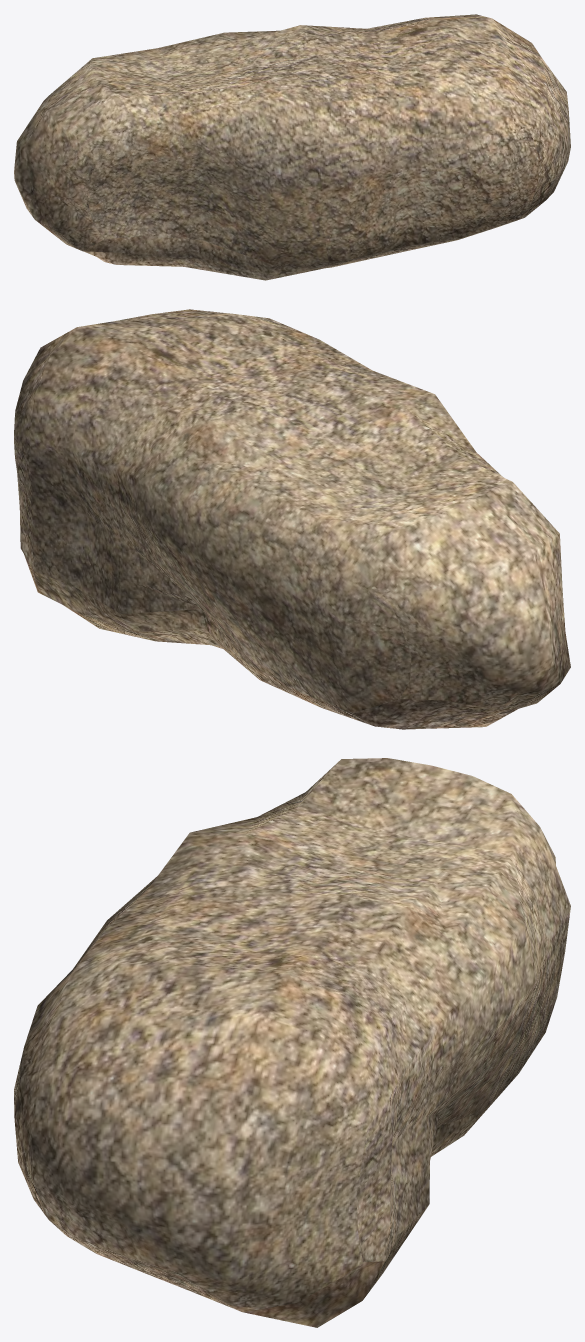
The model's file is Stone01_v01.glb.
3 renders of one model, top to bottom at view 1: azimuth 30°, elevation 25°; view 2: azimuth 150°, elevation 25°; view 3: azimuth 270°, elevation 25°, orthographic. The views are drawn at different scales.
Parts seen in each view (by area): view 1: SM_Stone01; view 2: SM_Stone01; view 3: SM_Stone01.
Part boxes in pixels (x1,y1,x2,y2): SM_Stone01: (14,14,570,280); SM_Stone01: (14,309,570,729); SM_Stone01: (14,758,570,1327).
Size of the model in its own units: 2.48 by 1.02 by 1.58.
1 material, 1 textured.
